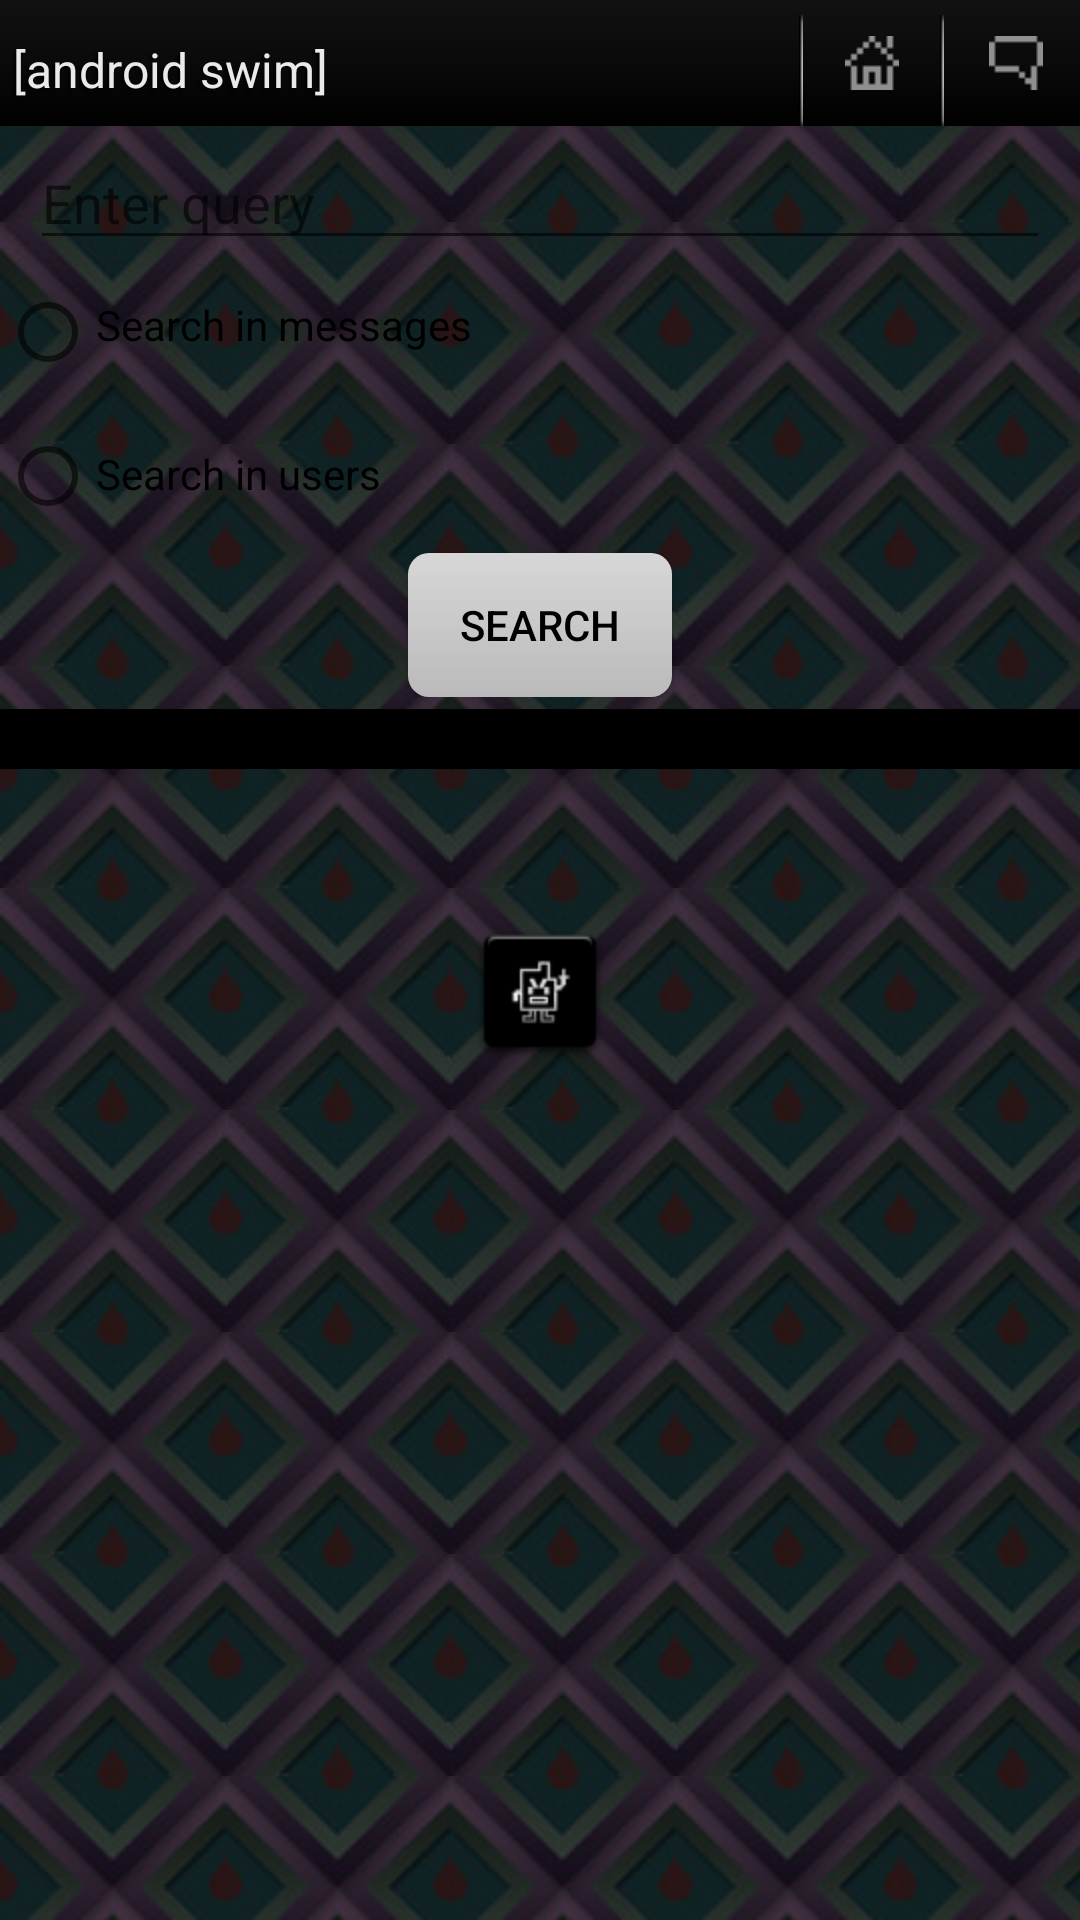

Locate icon controls on the screen. Image size 1080px×1920px, boxes as (x1, y1, x2, y2).
homepixel: (845, 36, 899, 90)
